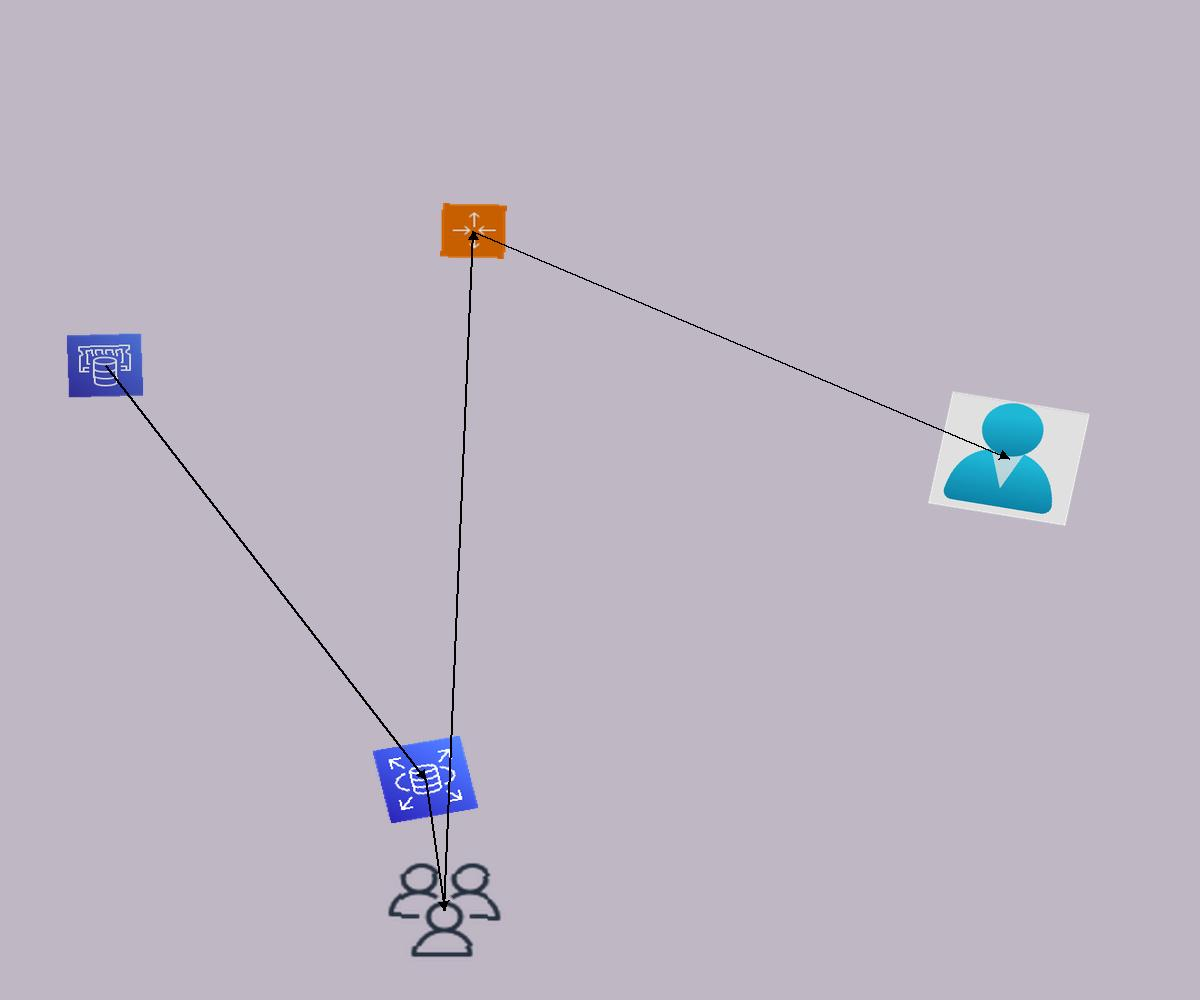AWS-ElastiCache: (66, 333, 144, 398)
AWS-RDS: (372, 735, 479, 824)
AWS-Res_Users: (381, 857, 508, 963)
AWS-Scaling-group: (440, 203, 507, 259)
Azure_users: (928, 391, 1090, 526)
